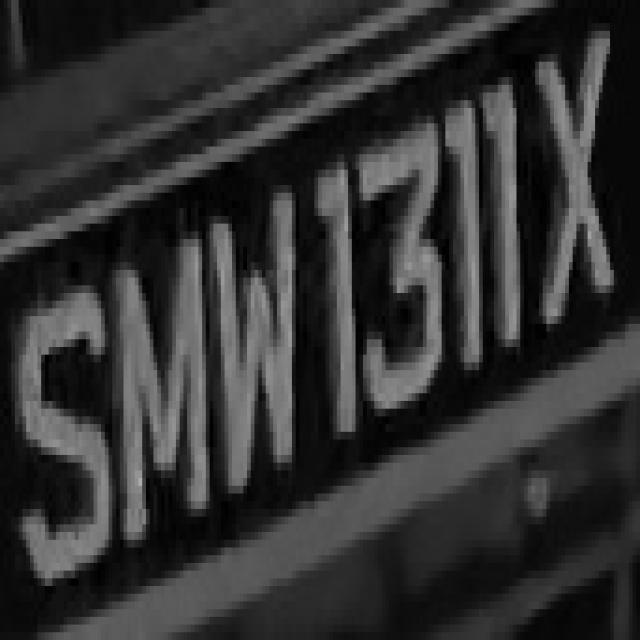1: (479, 69, 539, 378), (430, 92, 483, 386), (307, 131, 352, 463)
3: (348, 123, 445, 432)
M: (105, 216, 213, 532)
S: (19, 247, 116, 617)
W: (202, 170, 300, 486)
X: (539, 8, 629, 339)
